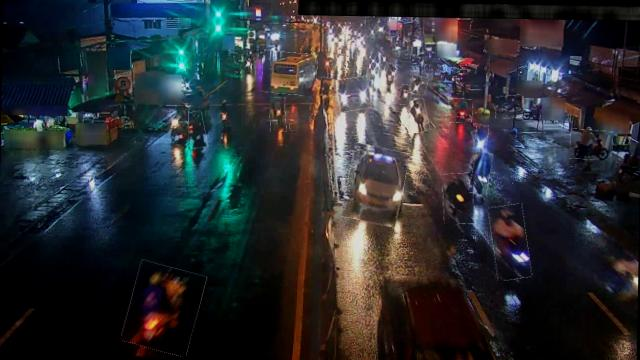Bike: (125, 263, 202, 354), (490, 203, 530, 280), (442, 173, 474, 224), (568, 129, 612, 160), (470, 152, 492, 194), (165, 106, 189, 144), (183, 112, 207, 148), (495, 94, 524, 118), (408, 99, 429, 132), (448, 98, 472, 123), (270, 97, 286, 132), (216, 98, 234, 126), (473, 126, 488, 156), (408, 74, 426, 94), (319, 77, 334, 96), (399, 84, 412, 105), (384, 67, 394, 91)
Bus: (262, 50, 318, 94)
Car: (344, 145, 408, 225), (336, 76, 371, 111)
